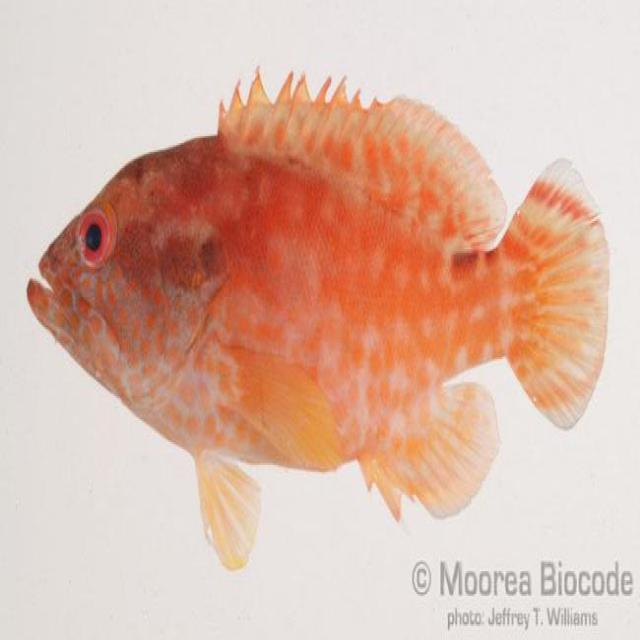ikan: (26, 64, 610, 571)
